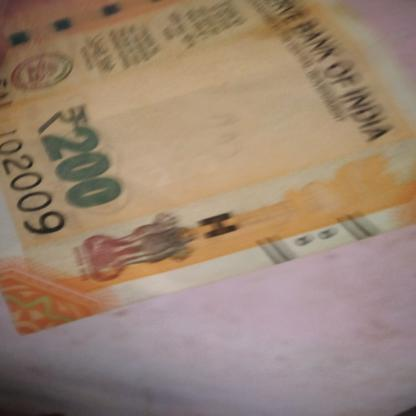New200Front: (0, 0, 403, 330)
